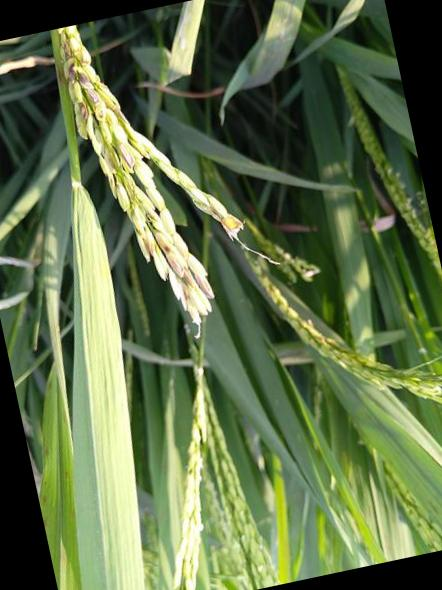Panicle Blight: (103, 140, 213, 324), (56, 24, 97, 139), (182, 187, 242, 236)
